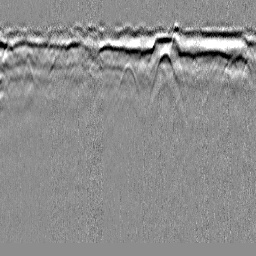cavity: (116, 61, 140, 96)
